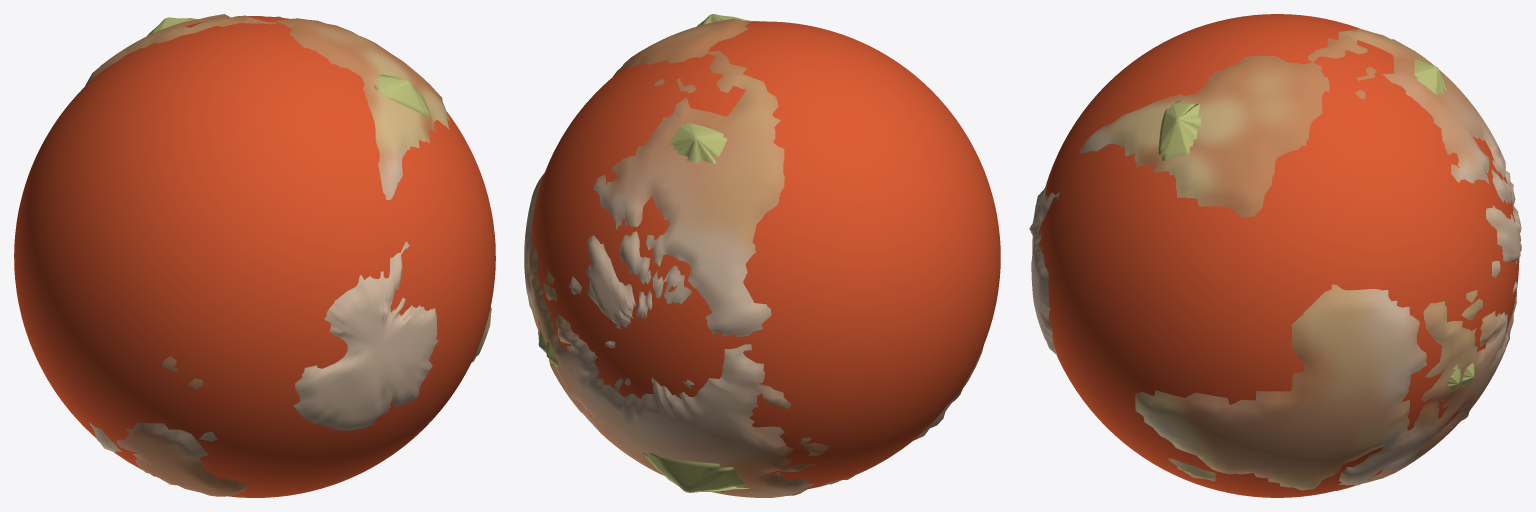
The model's file is EarthDry.fbx.
The picture shows the model from 3 angles, left to right: view 1: azimuth 30°, elevation 25°; view 2: azimuth 150°, elevation 25°; view 3: azimuth 270°, elevation 25°; orthographic projection. The views are drawn at different scales.
Parts seen in each view (by area): view 1: EarthDry, Land.001, Mountains.001; view 2: EarthDry, Land.001, Mountains.001; view 3: EarthDry, Land.001, Mountains.001.
Boxes of the visible parts, bbox=[...] form: EarthDry: bbox=[14, 16, 495, 497]; Land.001: bbox=[85, 14, 491, 496]; Mountains.001: bbox=[146, 17, 431, 116]; EarthDry: bbox=[531, 21, 1000, 489]; Land.001: bbox=[524, 19, 983, 497]; Mountains.001: bbox=[538, 14, 752, 492]; EarthDry: bbox=[1038, 14, 1519, 497]; Land.001: bbox=[1029, 28, 1521, 490]; Mountains.001: bbox=[1158, 59, 1474, 420].
Size of the model in its own units: 794 by 792 by 803.
3 materials, 1 textured.
